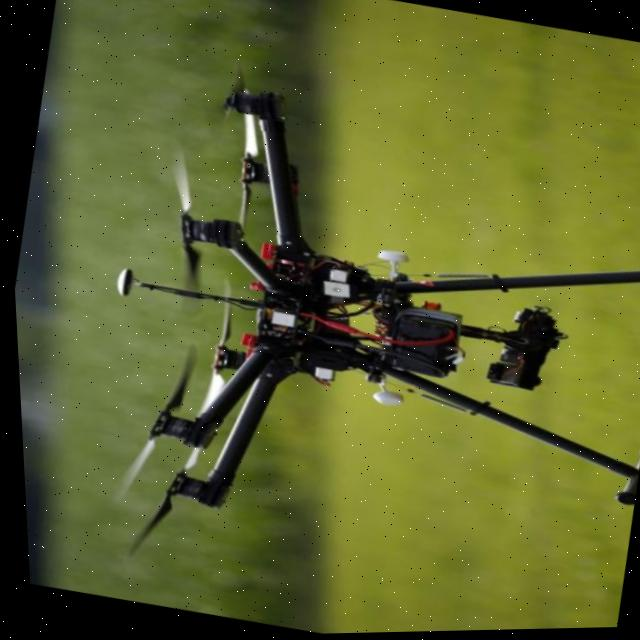drones: (35, 49, 640, 639)
